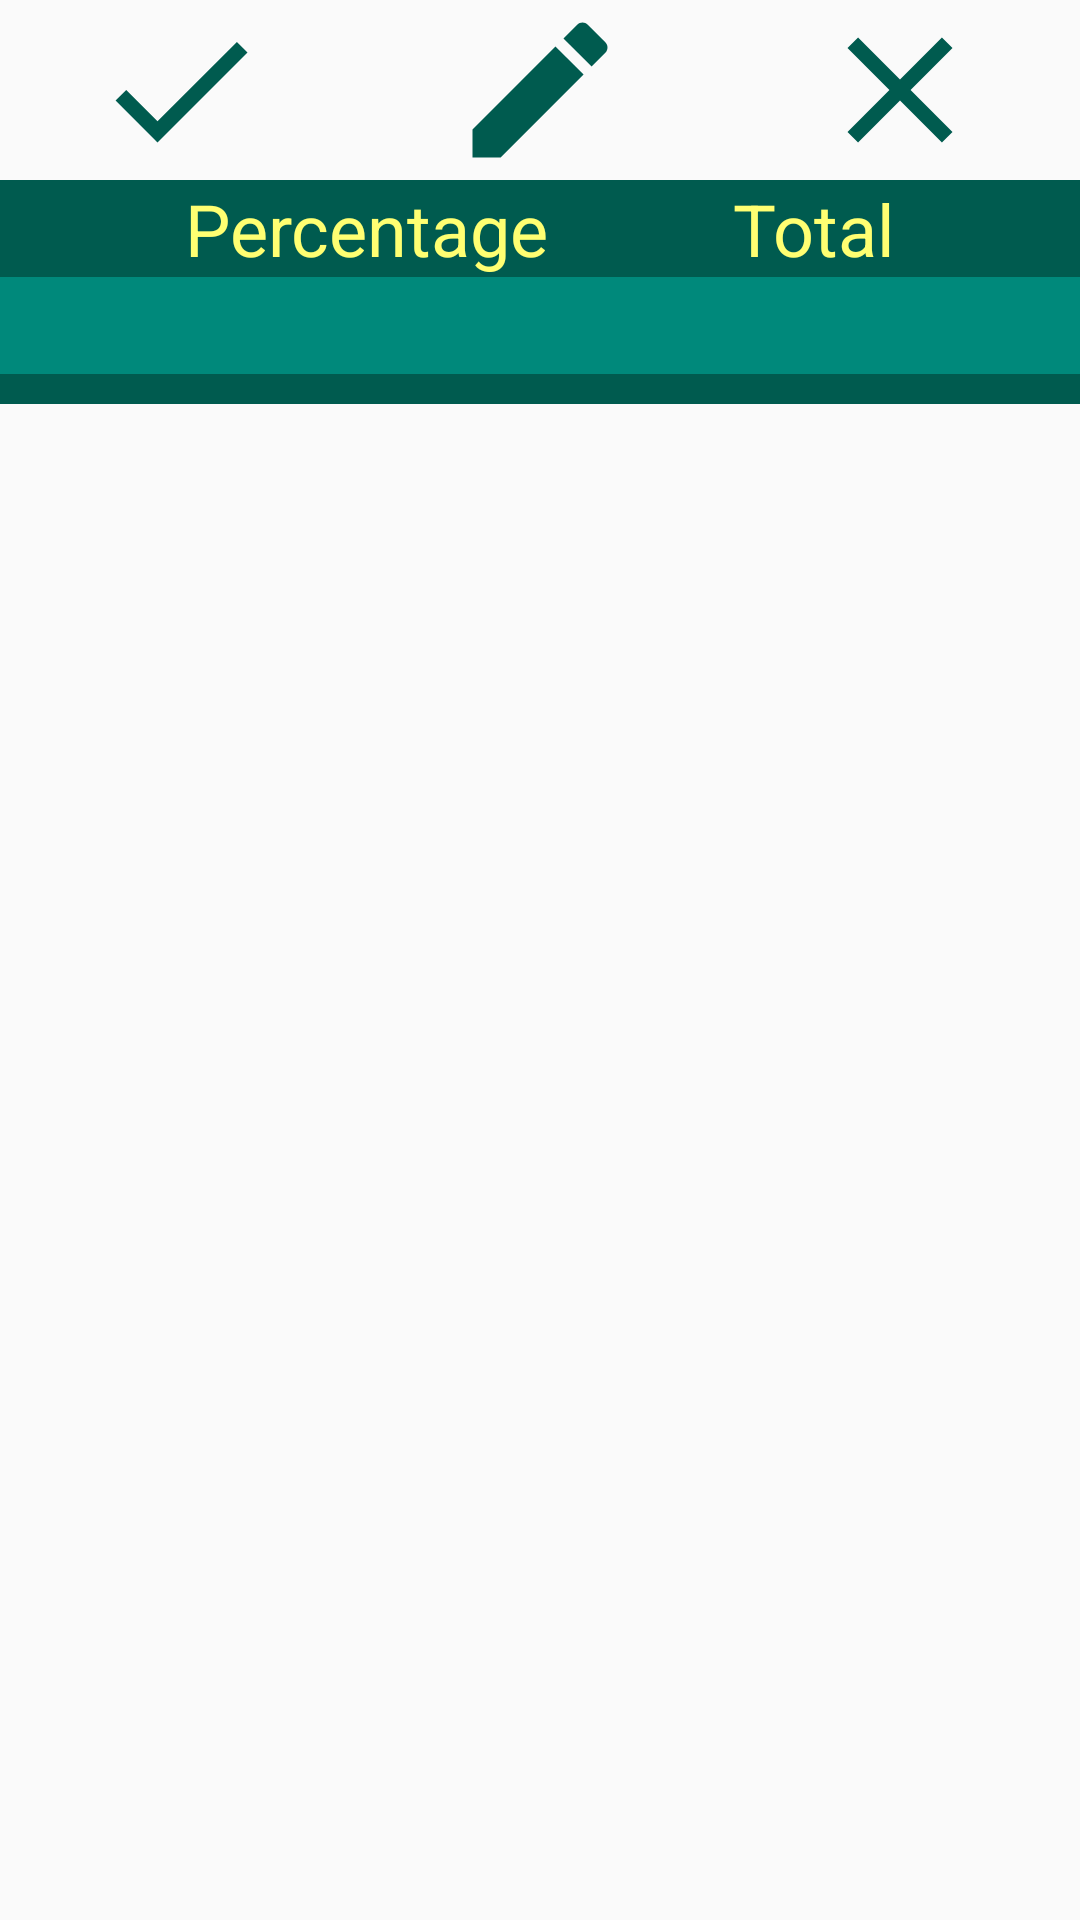

Locate icon controls on the screen. Image size 1080 x 1920, boxes as [left=x1, top=y1, right=x2, bottom=y2].
Invalid: [left=847, top=37, right=953, bottom=143]
Make Note: [left=472, top=22, right=608, bottom=158]
Valid: [left=115, top=42, right=248, bottom=143]
